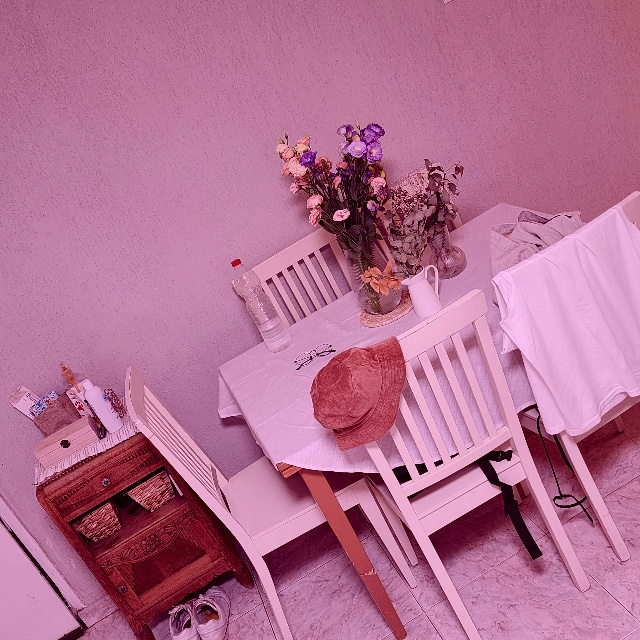glasses: (292, 341, 340, 372)
